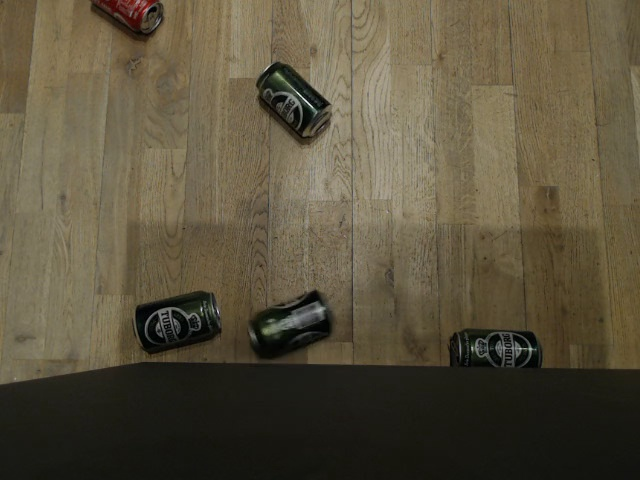beer: (248, 57, 335, 141), (245, 288, 333, 360), (129, 285, 223, 352), (442, 324, 548, 370)
cola: (89, 0, 167, 39)
